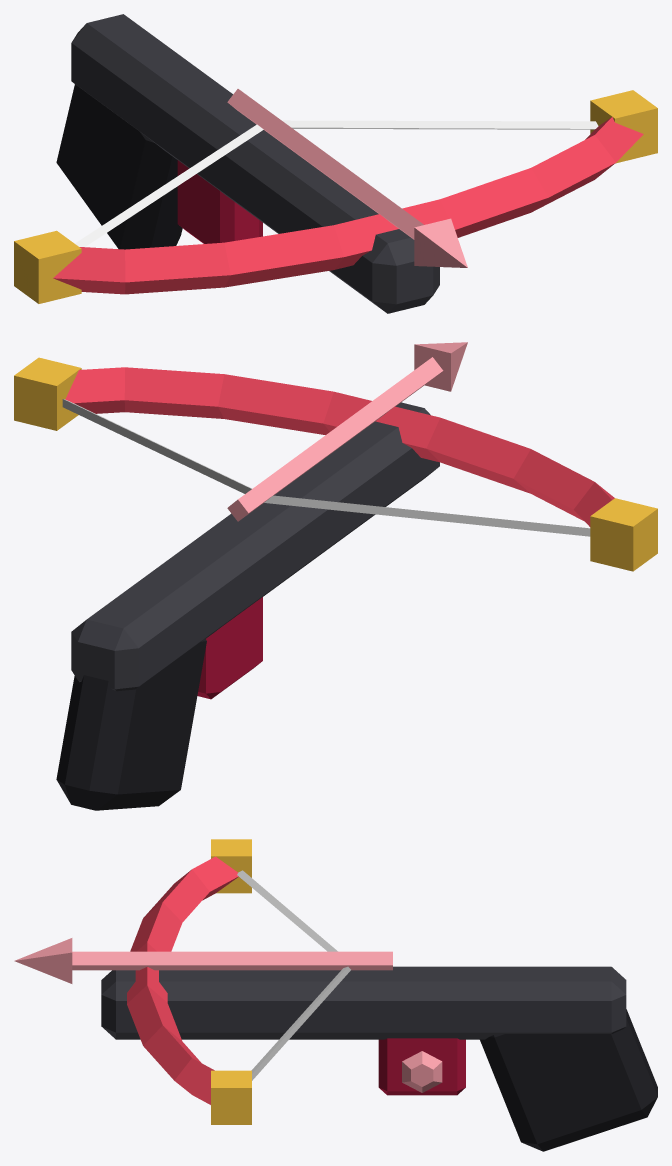
The model's file is RubyCrossbow.fbx.
The picture shows the model from 3 angles, top to bottom: view 1: azimuth 30°, elevation 25°; view 2: azimuth 150°, elevation 25°; view 3: azimuth 270°, elevation 25°; orthographic projection. The views are drawn at different scales.
Parts seen in each view (by area): view 1: RubyCrossbow; view 2: RubyCrossbow; view 3: RubyCrossbow.
Part boxes in pixels (x1,y1,x2,y2): RubyCrossbow: (14, 14, 657, 313); RubyCrossbow: (14, 342, 657, 810); RubyCrossbow: (14, 839, 657, 1151).
Bounding box in the file's own units: 2.02 × 0.7634 × 2.21.
1 material, 1 textured.
